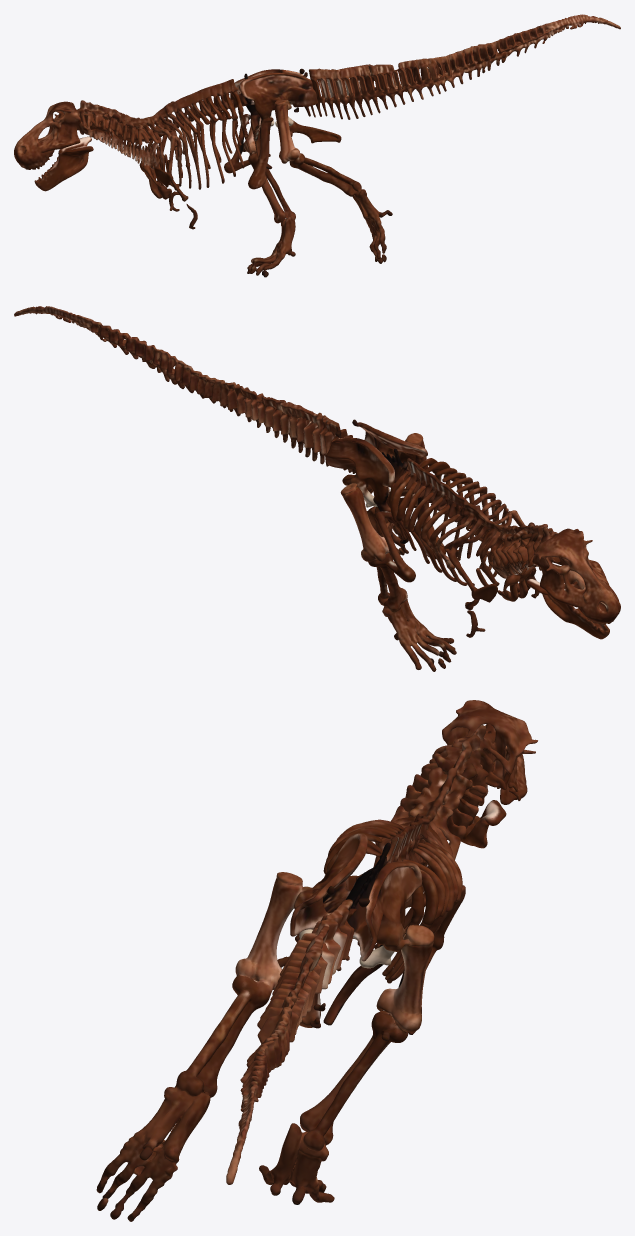
The model's file is pixal3d.glb.
The picture shows the model from 3 angles, top to bottom: view 1: azimuth 30°, elevation 25°; view 2: azimuth 150°, elevation 25°; view 3: azimuth 270°, elevation 25°; orthographic projection. The views are drawn at different scales.
Parts seen in each view (by area): view 1: world; view 2: world; view 3: world.
Boxes of the visible parts, x1=… form: world: x1=14, y1=14, x2=620, y2=277; world: x1=14, y1=306, x2=620, y2=671; world: x1=96, y1=700, x2=537, y2=1221.
Size of the model in its own units: 0.8879 by 0.3079 by 0.3164.
Materials: 1 (1 with a texture image).
